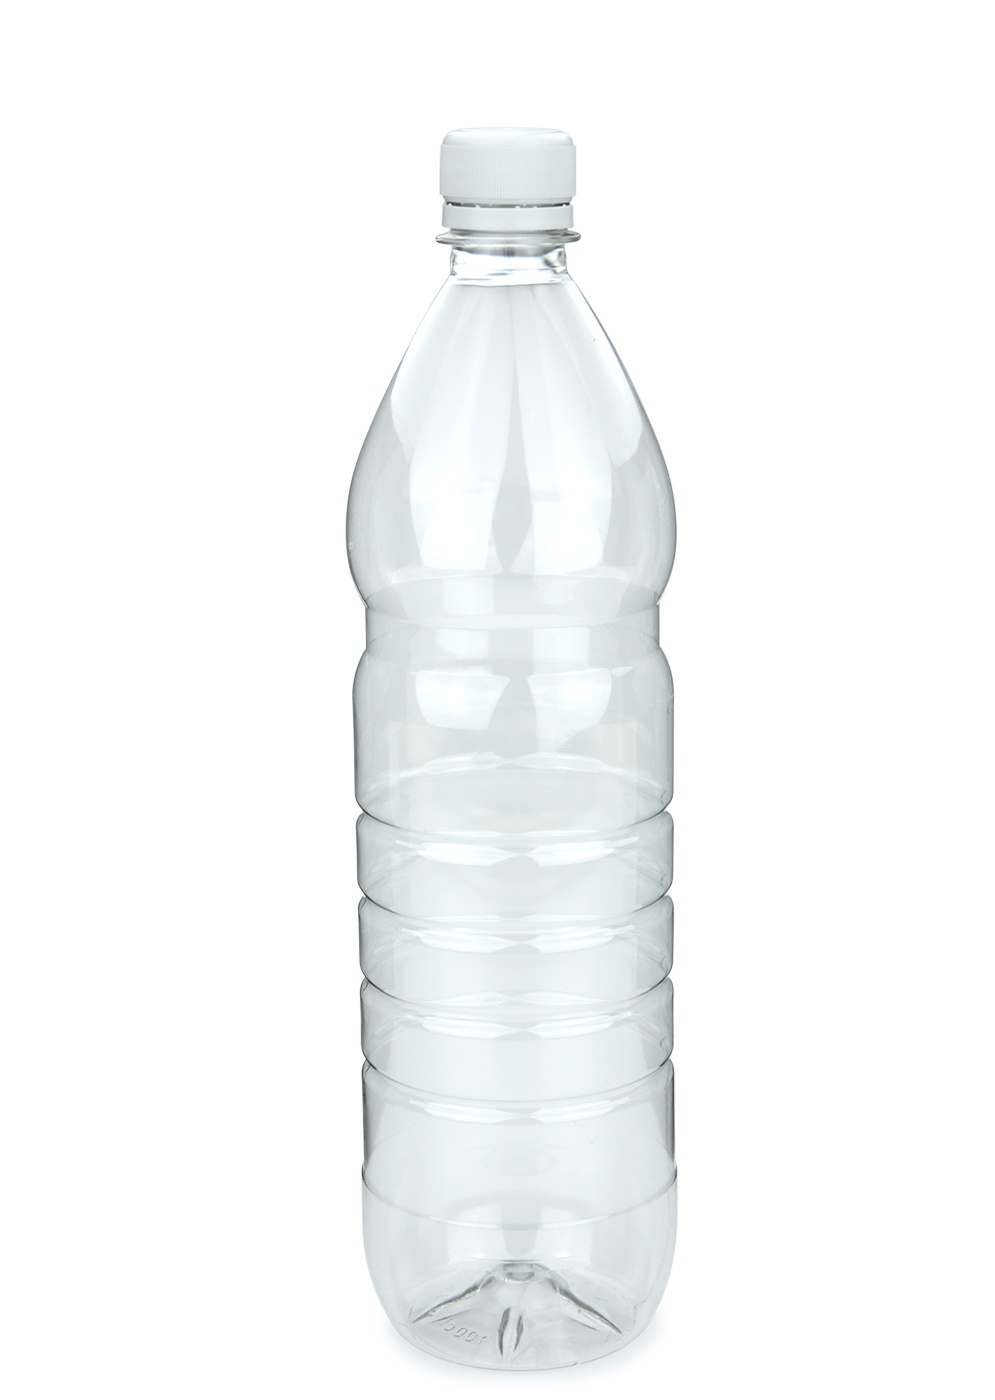emptybottle: (345, 125, 672, 1376)
